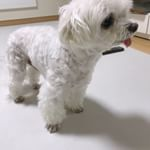puppy: (41, 1, 143, 135)
